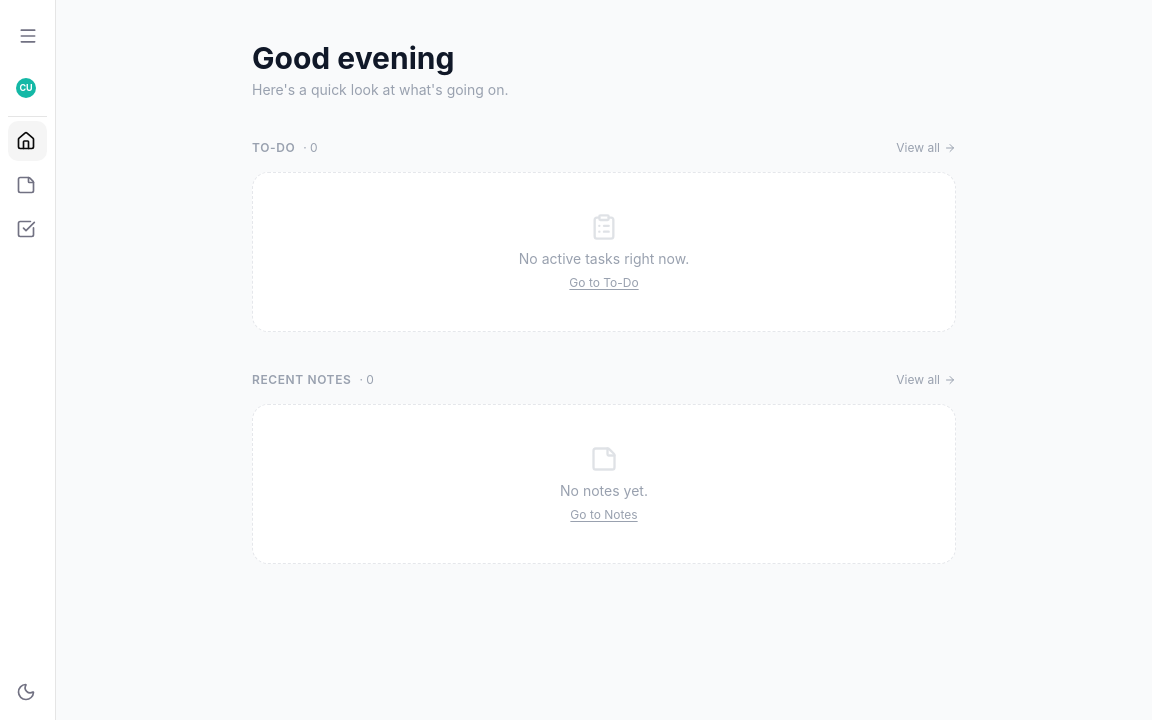
Test: Navbar › signs out from the account page
The image size is (1152, 720).
Step 1. Click the link to "/account" → (26, 88), box [16, 78, 36, 98]
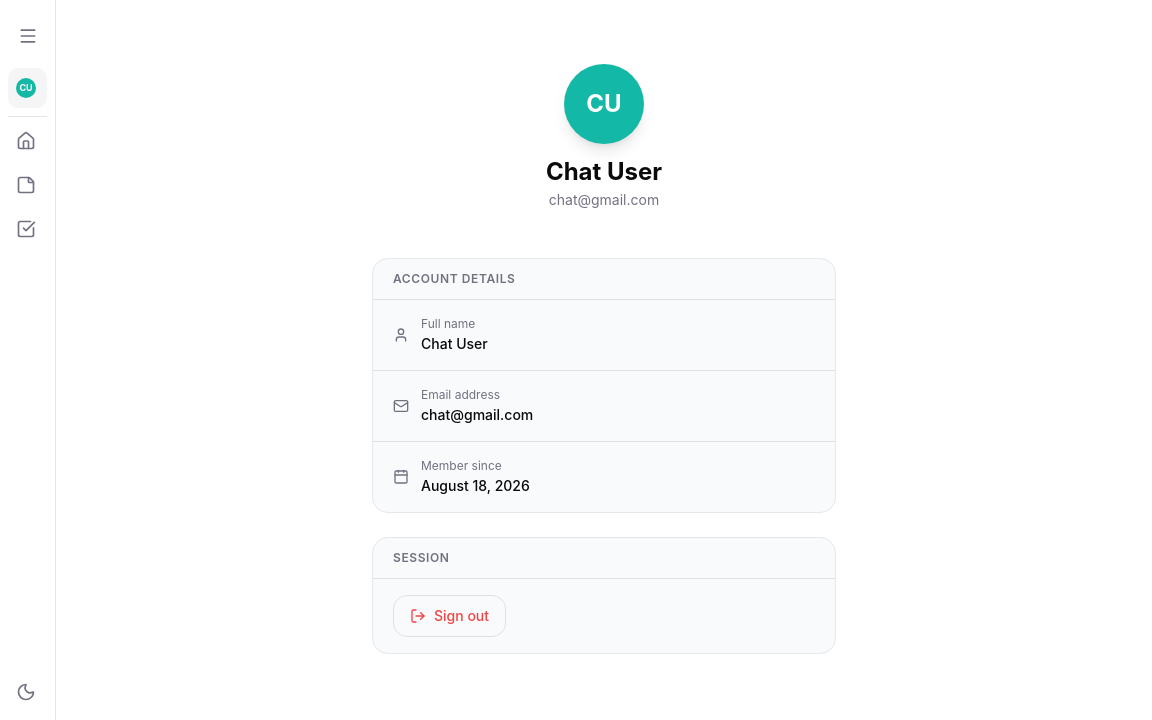
Step 2. Click the button "Sign out" → (450, 616), box [393, 595, 506, 637]
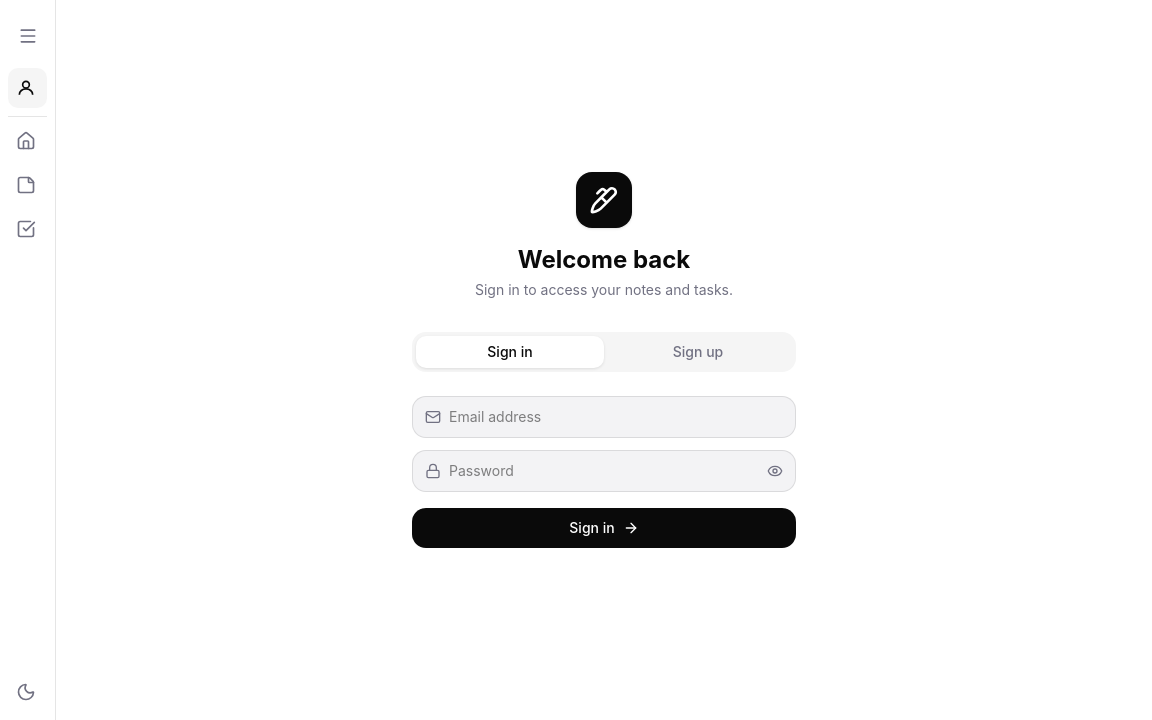
Expected: the heading "Welcome back" is shown, [518, 245, 690, 274]
